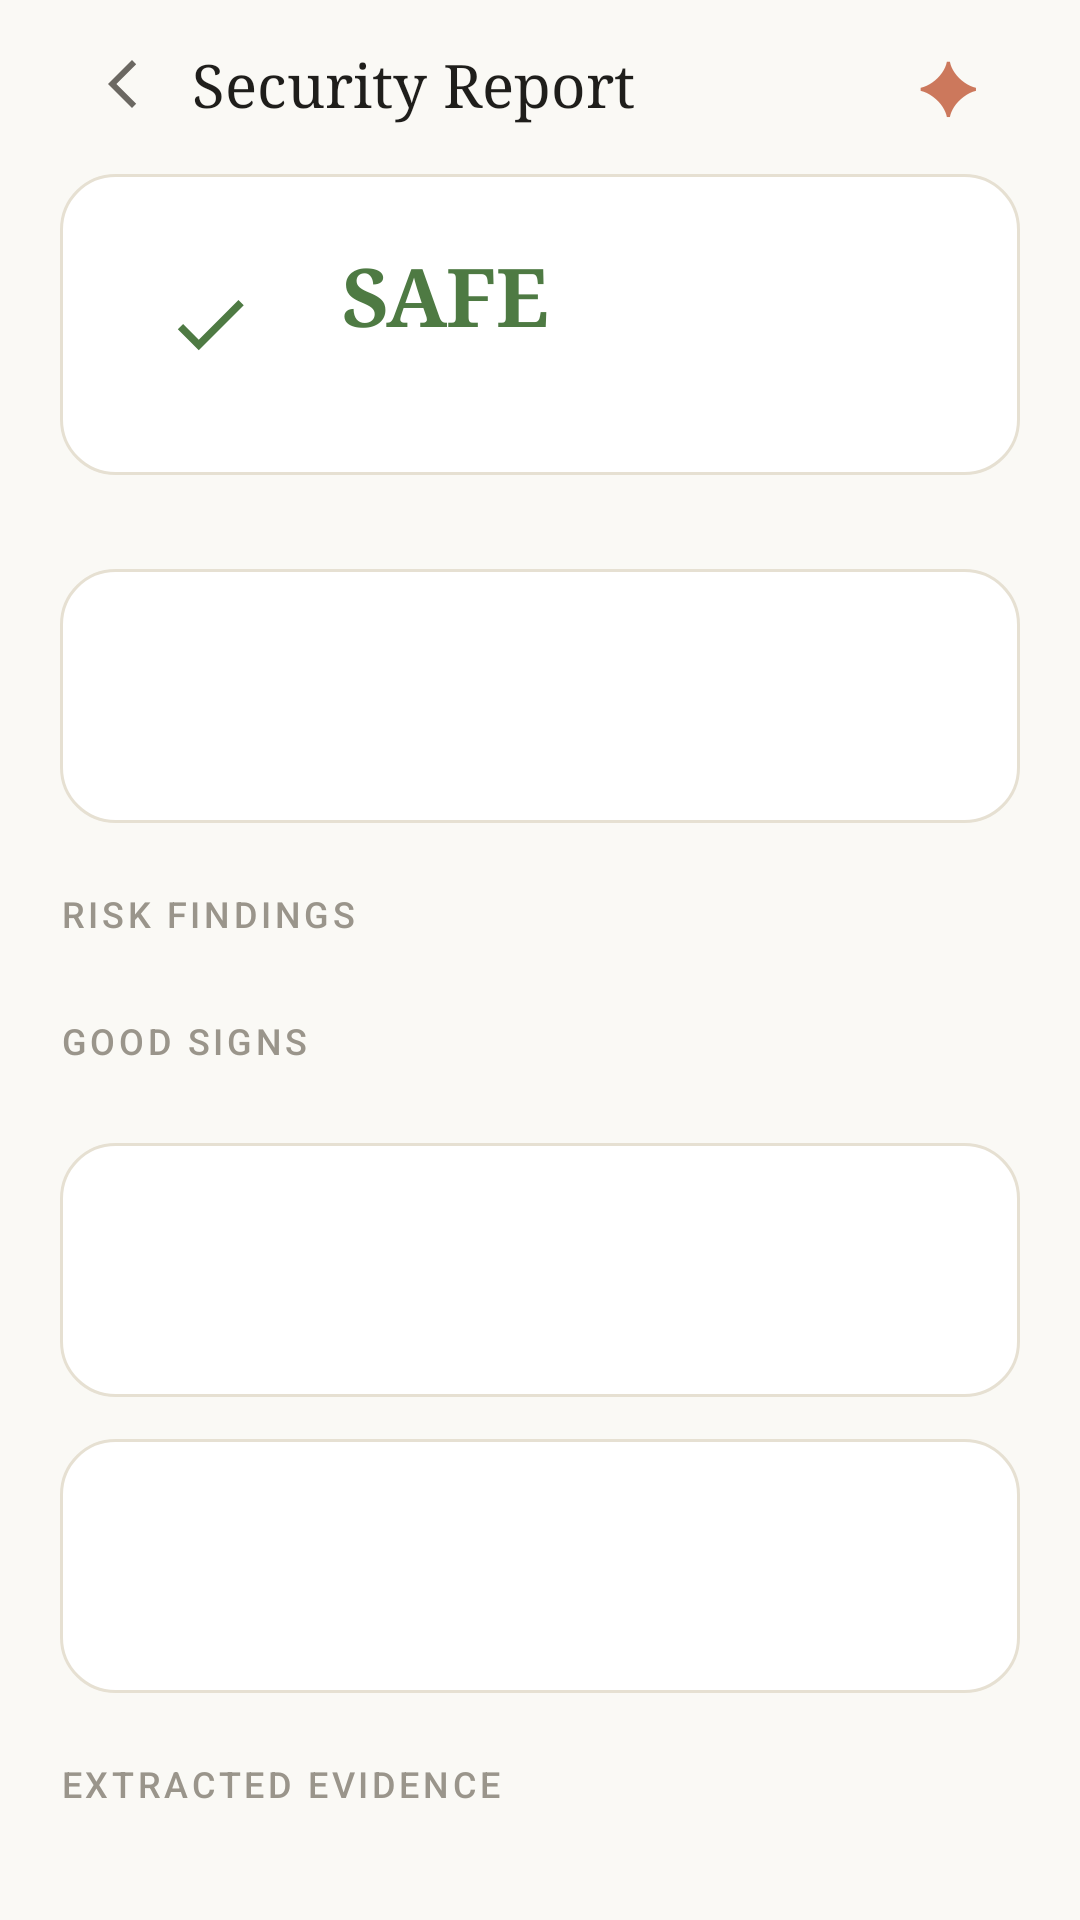

Screen size 1080*1920. Icon name, then its center in pixels as point (x, y):
back: point (122, 84)
check: point (211, 325)
